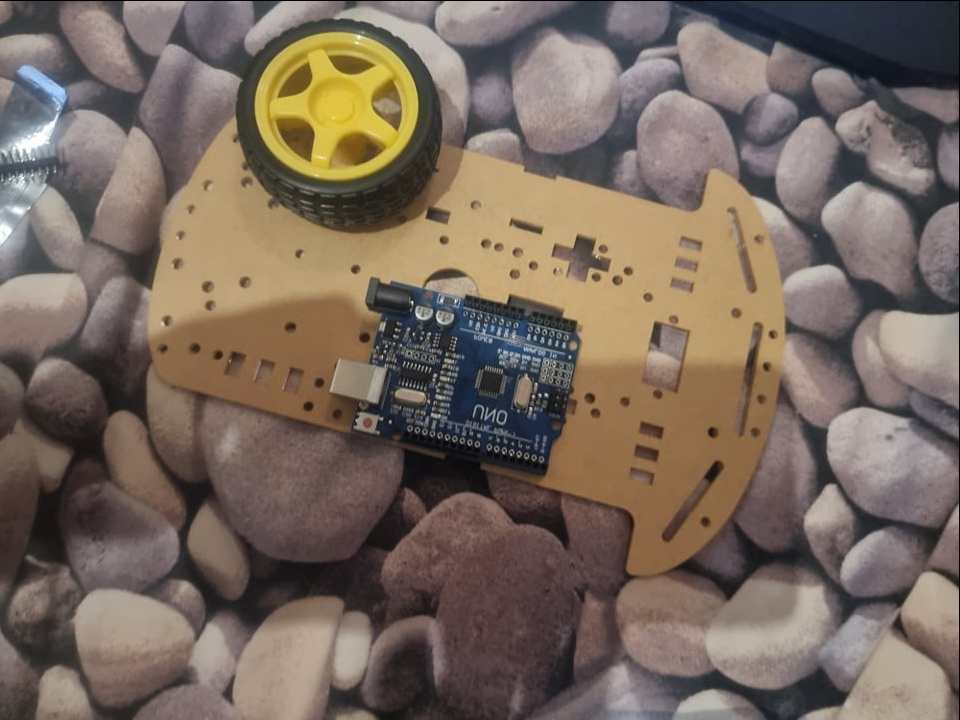UNO R3: (328, 275, 583, 474)
